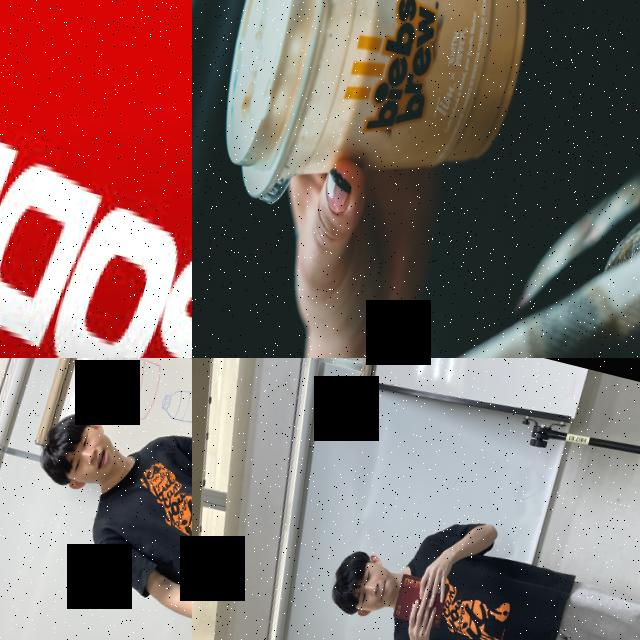cup: (196, 0, 560, 256)
